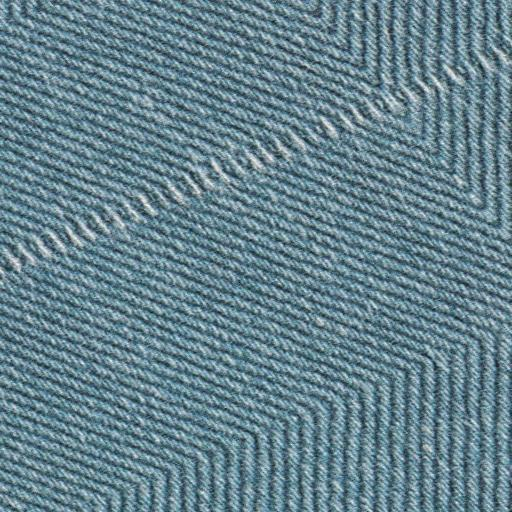slub: (2, 33, 512, 278)
